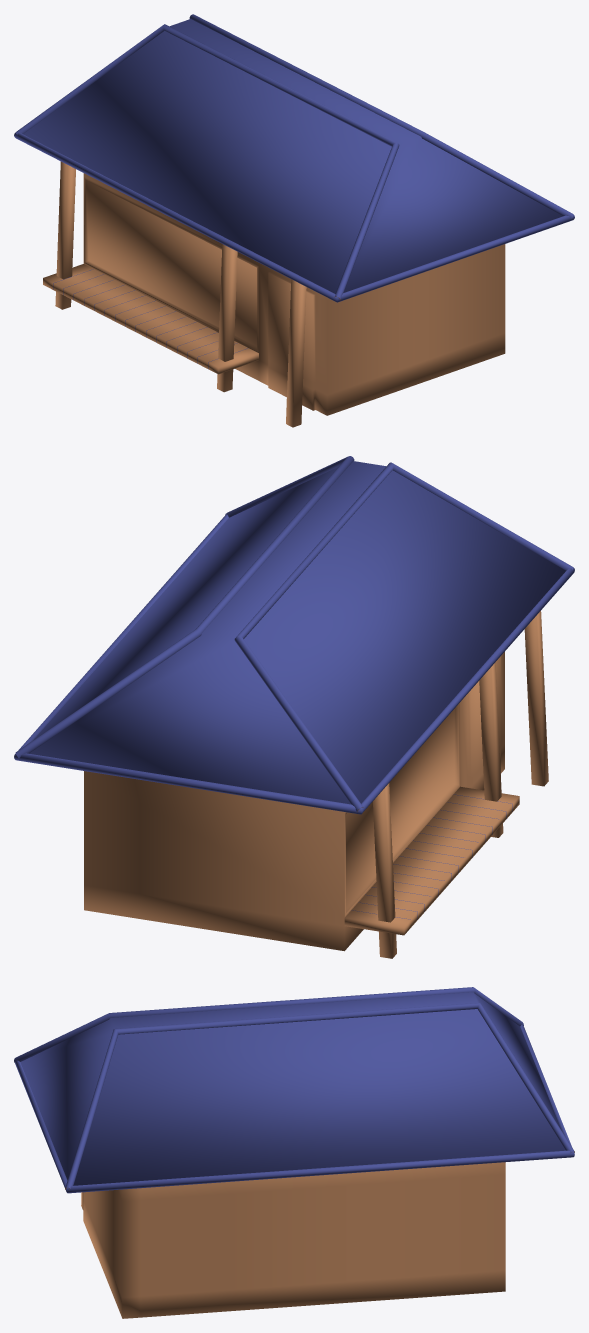
The model's file is 052_古民家2005.glb.
3 views of the same model, one above another, from view 1: azimuth 30°, elevation 25°; view 2: azimuth 150°, elevation 25°; view 3: azimuth 270°, elevation 25° (orthographic). The views are drawn at different scales.
Parts seen in each view (by area): view 1: 立方体035_3, 立方体035, 立方体035_1, 立方体035_2, 立方体035_4; view 2: 立方体035_3, 立方体035, 立方体035_1, 立方体035_2, 立方体035_4; view 3: 立方体035_3, 立方体035.
Part boxes in pixels (x1,y1,x2,y2): 立方体035_3: (14, 14, 574, 302); 立方体035: (43, 173, 505, 415); 立方体035_1: (88, 182, 315, 410); 立方体035_2: (55, 161, 306, 427); 立方体035_4: (53, 269, 247, 368); 立方体035_3: (14, 456, 574, 814); 立方体035: (84, 652, 519, 951); 立方体035_1: (346, 656, 500, 906); 立方体035_2: (373, 611, 548, 958); 立方体035_4: (351, 794, 512, 919); 立方体035_3: (14, 987, 574, 1193); 立方体035: (65, 1151, 574, 1318).
Size of the model in its own units: 4.37 by 3.03 by 6.15.
